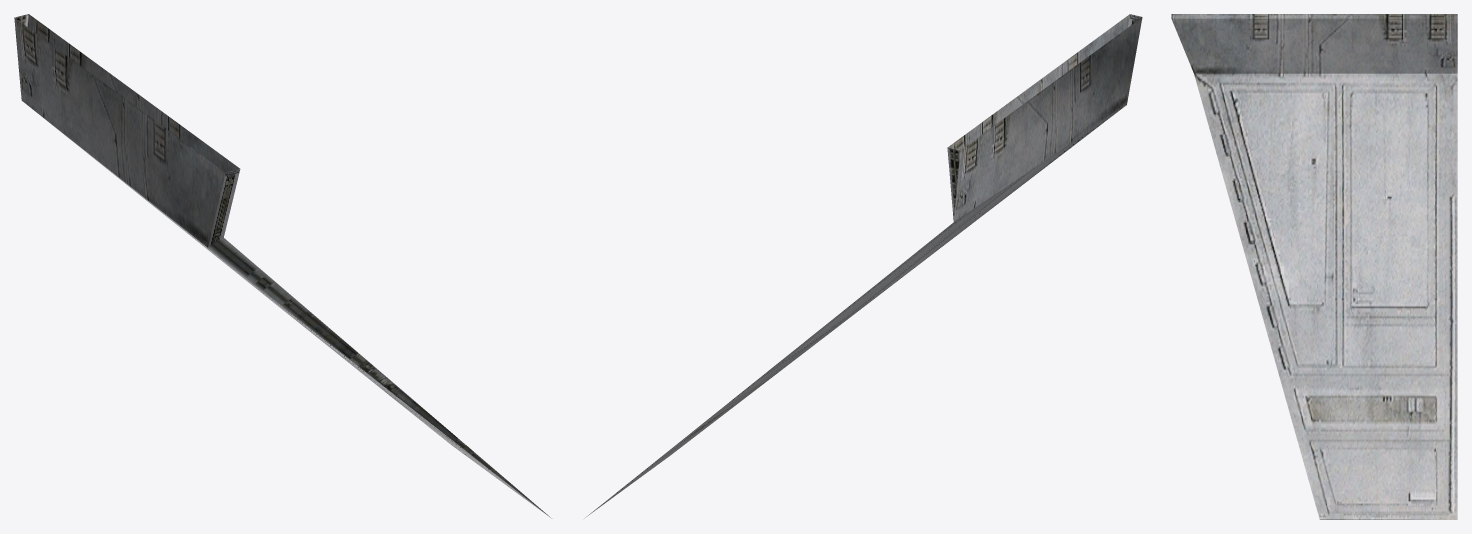
The model's file is lambda_r_wing_faction_l3.fbx.
3 renders of one model, left to right at view 1: azimuth 30°, elevation 25°; view 2: azimuth 150°, elevation 25°; view 3: azimuth 270°, elevation 25°, orthographic. The views are drawn at different scales.
Parts seen in each view (by area): view 1: mesh_node; view 2: mesh_node; view 3: mesh_node.
Part boxes in pixels (x1,y1,x2,y2): mesh_node: (14,14,551,518); mesh_node: (584,14,1142,518); mesh_node: (1171,14,1457,519).
Bounding box in the file's own units: 13.13 × 15.34 × 11.
2 materials, 2 textured.
